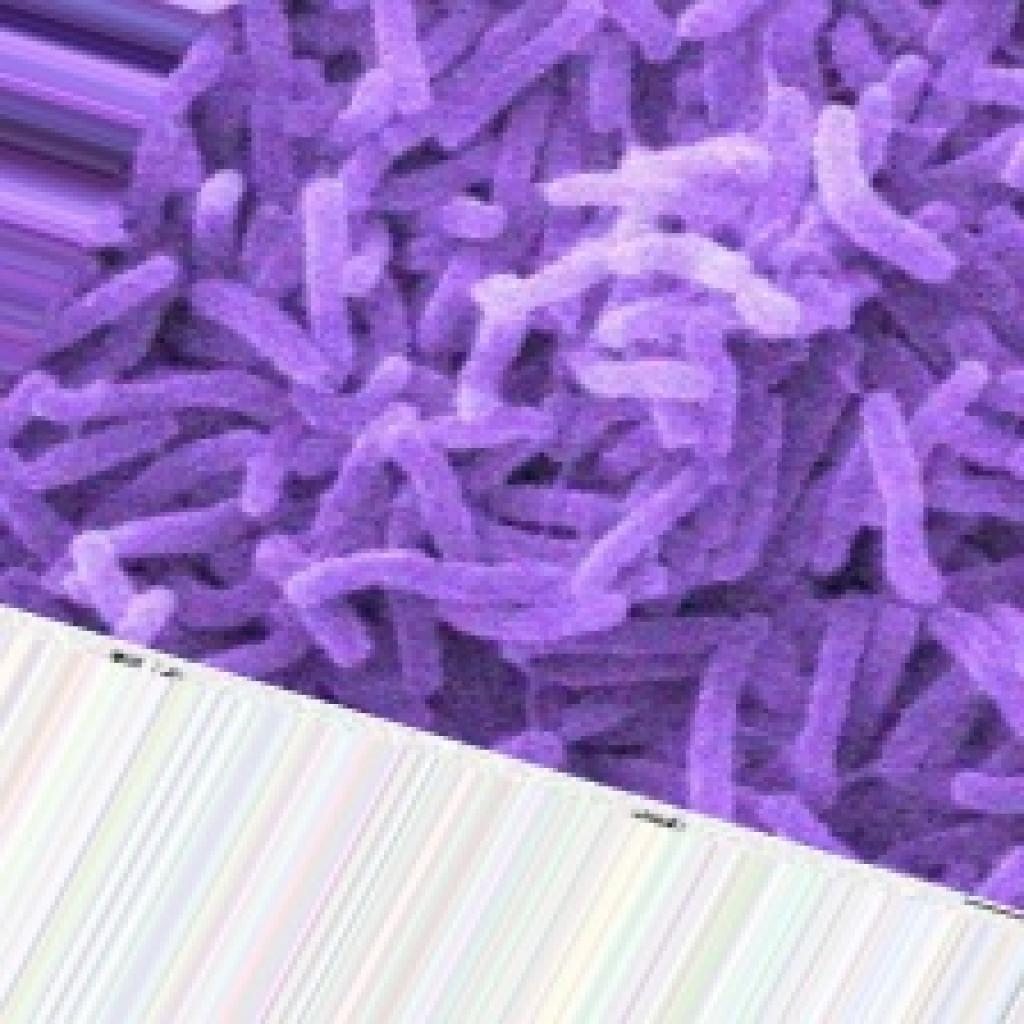Rodbacteria: (0, 0, 1019, 996)
